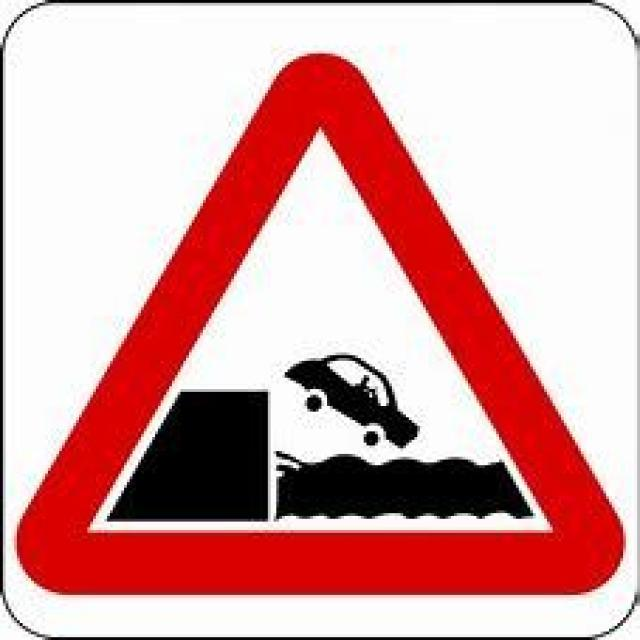quay side or river bank: (21, 48, 614, 614)
